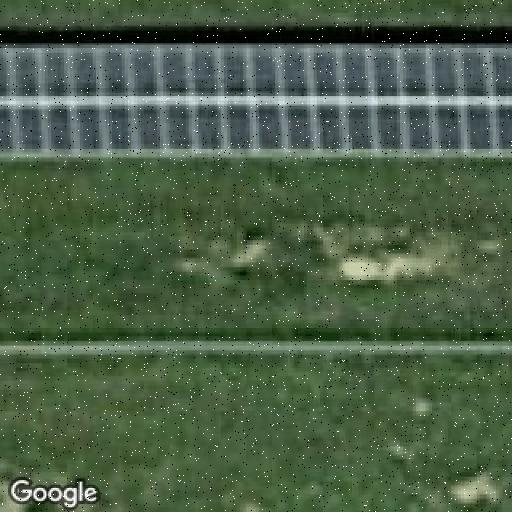solar-panel: (0, 48, 512, 160)
